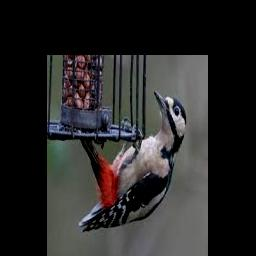Woodpecker: (79, 90, 187, 232)
